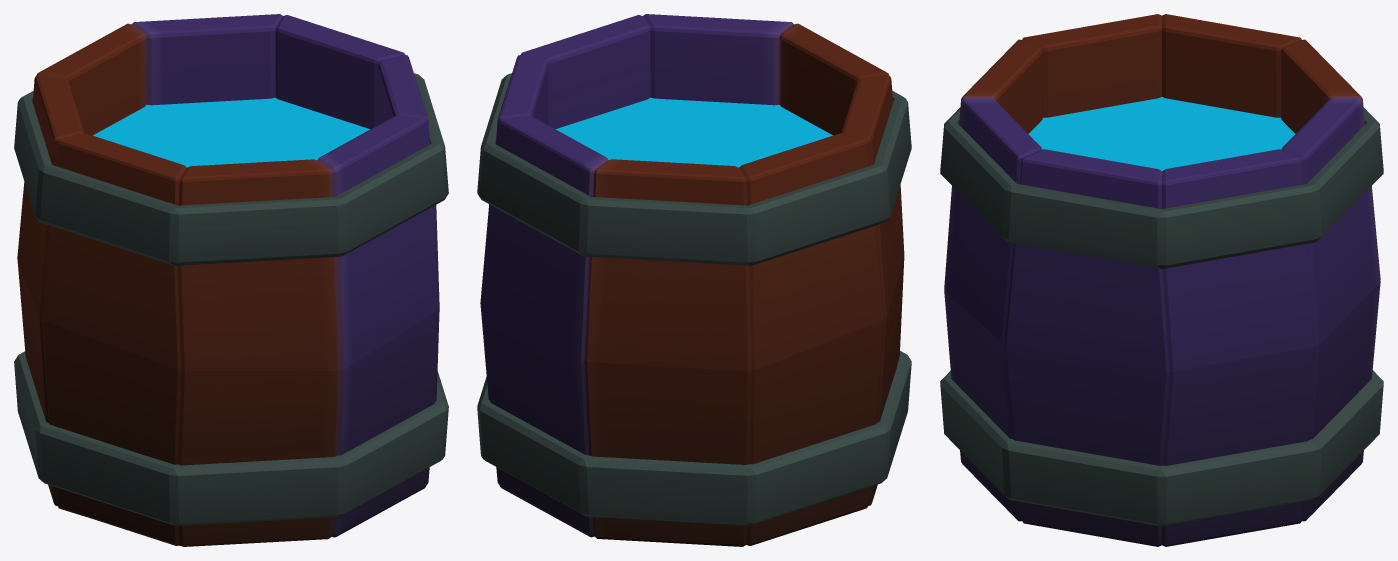
The model's file is FBX_BarrelOpenWater.fbx.
3 renders of one model, left to right at view 1: azimuth 30°, elevation 25°; view 2: azimuth 150°, elevation 25°; view 3: azimuth 270°, elevation 25°, orthographic.
Parts seen in each view (by area): view 1: M_BarrelOpenWater; view 2: M_BarrelOpenWater; view 3: M_BarrelOpenWater.
Boxes of the visible parts, bbox=[...] form: M_BarrelOpenWater: bbox=[14, 14, 448, 546]; M_BarrelOpenWater: bbox=[477, 14, 911, 546]; M_BarrelOpenWater: bbox=[940, 14, 1383, 546].
Bounding box in the file's own units: 2.19 × 2 × 2.19.
